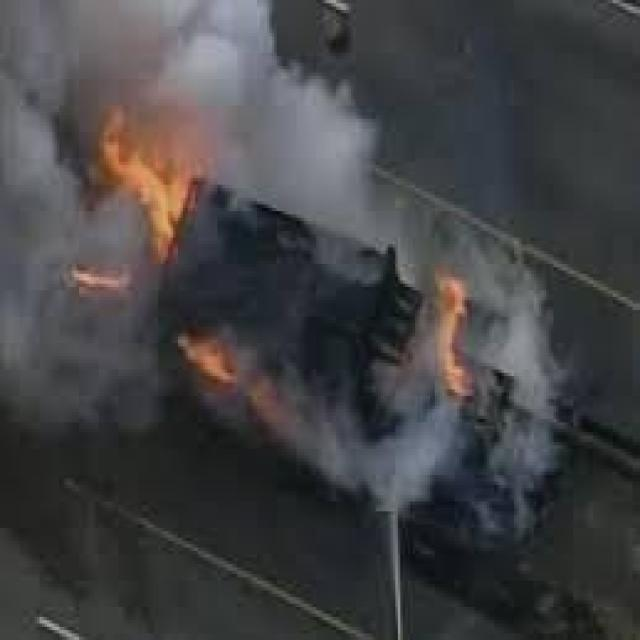fire: (76, 87, 212, 296), (174, 328, 285, 415), (414, 256, 477, 396)
smoke: (2, 120, 140, 422), (1, 0, 270, 118), (281, 72, 375, 218)
